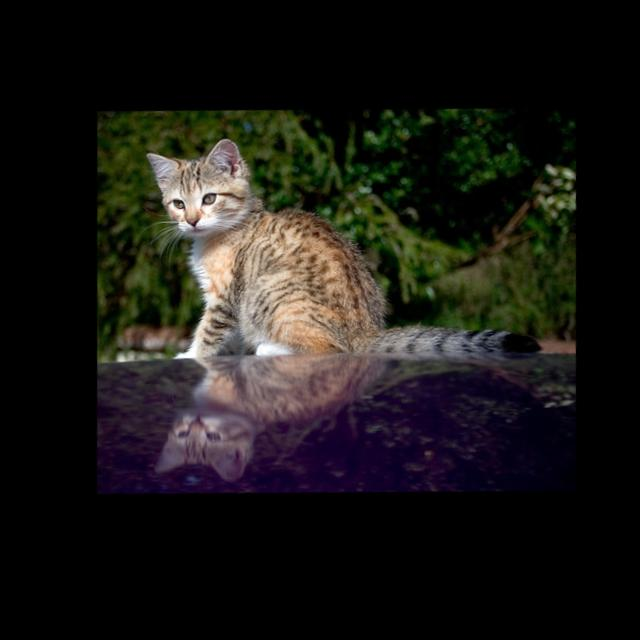animals: (142, 137, 239, 231)
